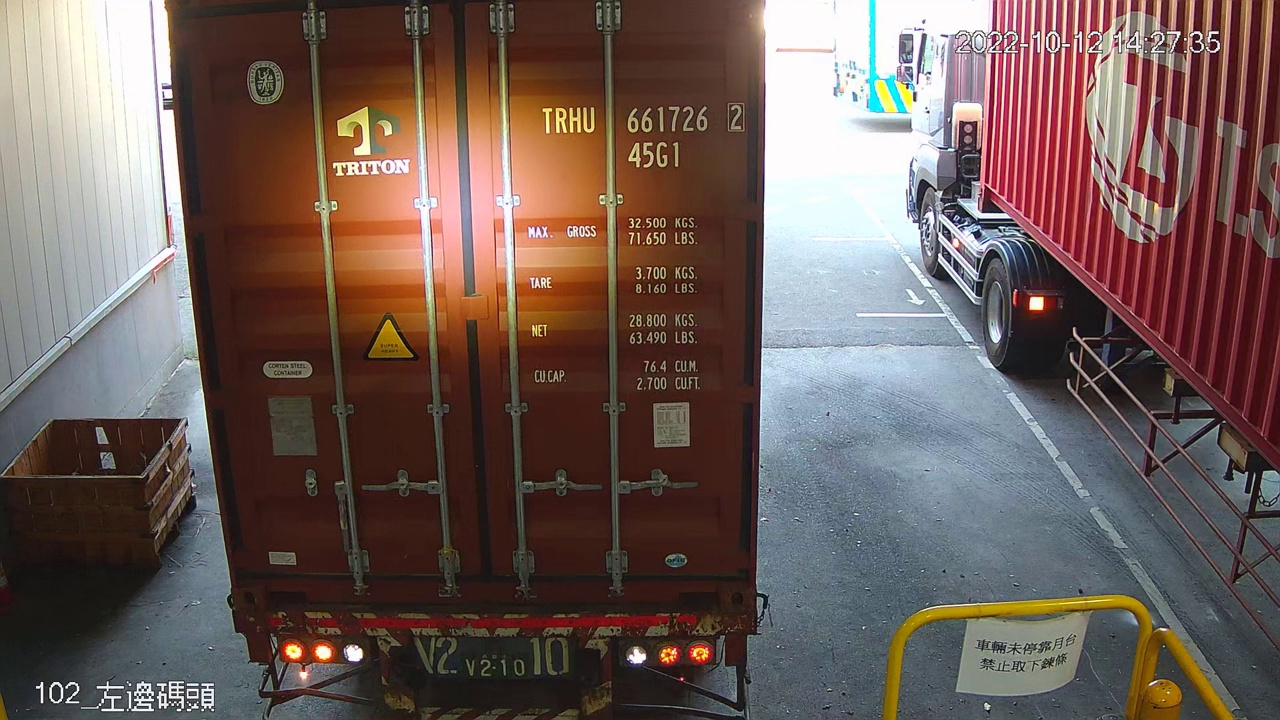container: (531, 95, 754, 177)
